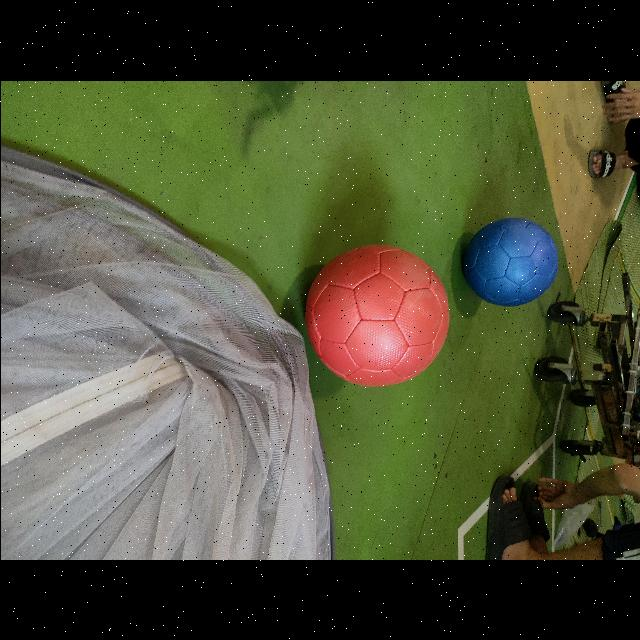B: (458, 215, 556, 307)
R: (300, 243, 448, 387)
